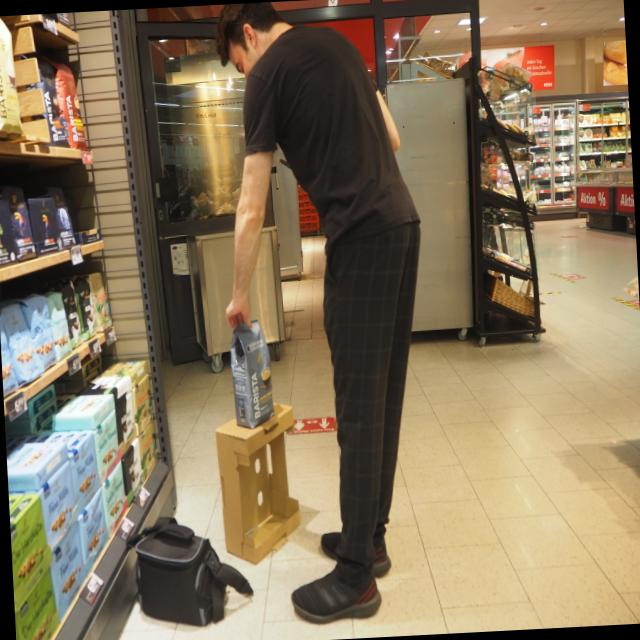Barista CC: (229, 321, 276, 430)
